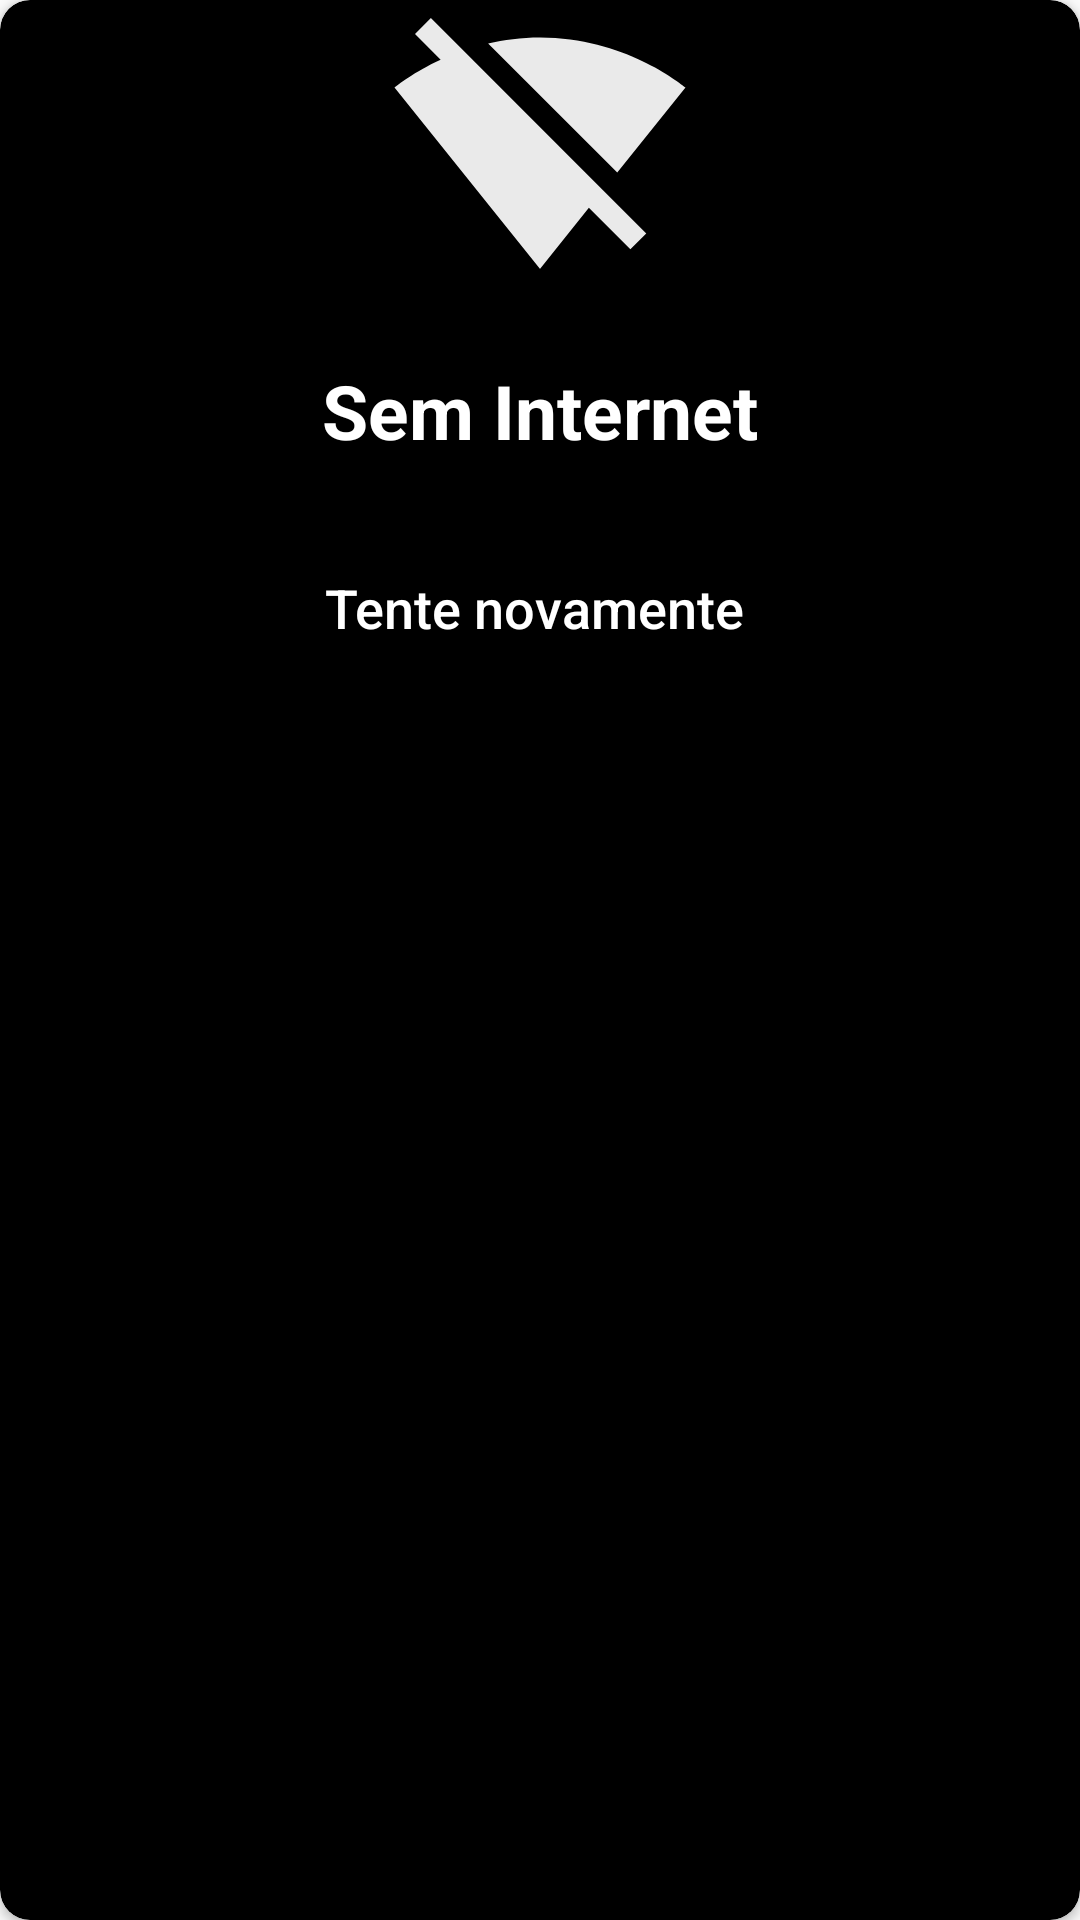

Where icons sit on this 1080x1920 app screen, as (x1, y1, x2, y2):
signal wifi off: (394, 18, 686, 269)
